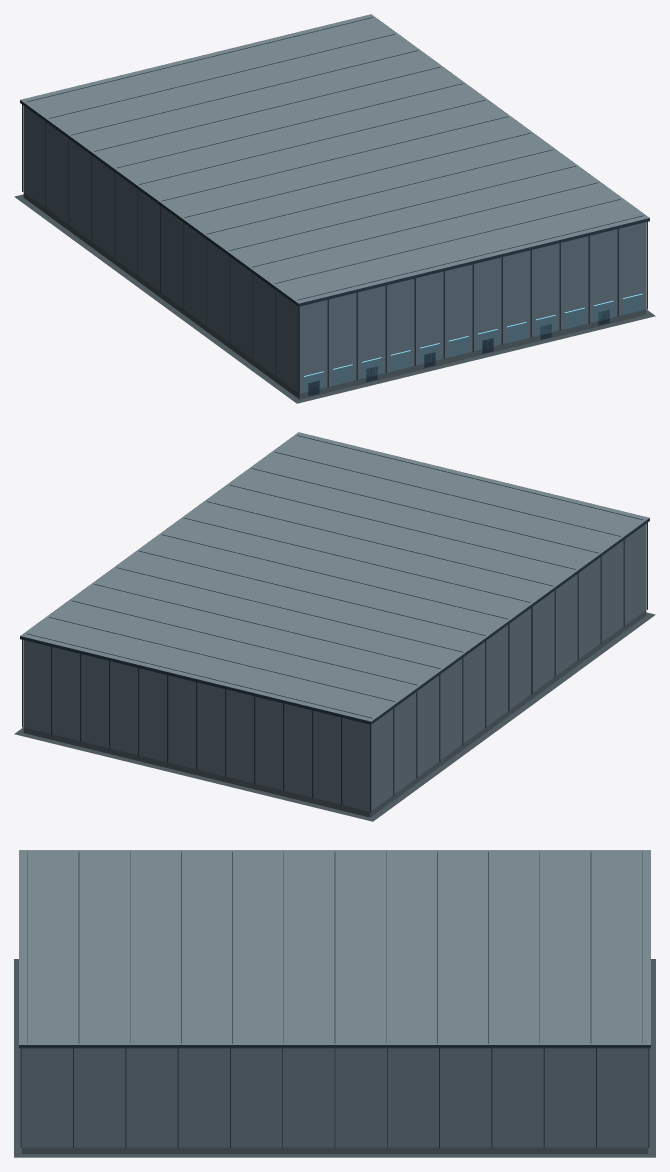
File: shell.glb
3 views of the same model, one above another, from view 1: azimuth 30°, elevation 25°; view 2: azimuth 150°, elevation 25°; view 3: azimuth 270°, elevation 25° (orthographic). The views are drawn at different scales.
Parts seen in each view (by area): view 1: shell_roof_canopy, shell_bowl_mass_cladding, shell_roof_canopy_fascia, shell_bowl_mass_facade_panels, shell_bowl_mass_suite_glass_lobby, shell_bowl_mass_plinth, shell_field_floor_apron, shell_bowl_mass_portal_frames; view 2: shell_roof_canopy, shell_bowl_mass_cladding, shell_roof_canopy_fascia, shell_bowl_mass_facade_panels, shell_bowl_mass_plinth, shell_field_floor_apron; view 3: shell_roof_canopy, shell_bowl_mass_cladding, shell_roof_canopy_fascia, shell_field_floor_apron, shell_bowl_mass_plinth, shell_bowl_mass_facade_panels.
Part boxes in pixels (bbox=[...]): shell_roof_canopy: bbox=[20, 14, 648, 303]; shell_bowl_mass_cladding: bbox=[23, 106, 646, 393]; shell_roof_canopy_fascia: bbox=[20, 14, 649, 306]; shell_bowl_mass_facade_panels: bbox=[22, 104, 647, 394]; shell_bowl_mass_suite_glass_lobby: bbox=[304, 294, 642, 392]; shell_bowl_mass_plinth: bbox=[23, 192, 646, 399]; shell_field_floor_apron: bbox=[14, 194, 655, 403]; shell_bowl_mass_portal_frames: bbox=[308, 309, 609, 396]; shell_roof_canopy: bbox=[21, 432, 649, 721]; shell_bowl_mass_cladding: bbox=[23, 524, 646, 811]; shell_roof_canopy_fascia: bbox=[20, 432, 649, 724]; shell_bowl_mass_facade_panels: bbox=[22, 522, 647, 812]; shell_bowl_mass_plinth: bbox=[23, 610, 646, 817]; shell_field_floor_apron: bbox=[14, 612, 655, 821]; shell_roof_canopy: bbox=[19, 850, 650, 1044]; shell_bowl_mass_cladding: bbox=[22, 1048, 647, 1147]; shell_roof_canopy_fascia: bbox=[19, 850, 650, 1048]; shell_field_floor_apron: bbox=[14, 959, 655, 1157]; shell_bowl_mass_plinth: bbox=[22, 1147, 647, 1153]; shell_bowl_mass_facade_panels: bbox=[20, 1048, 649, 1147].
Size of the model in its own units: 76.7 by 19.96 by 105.
